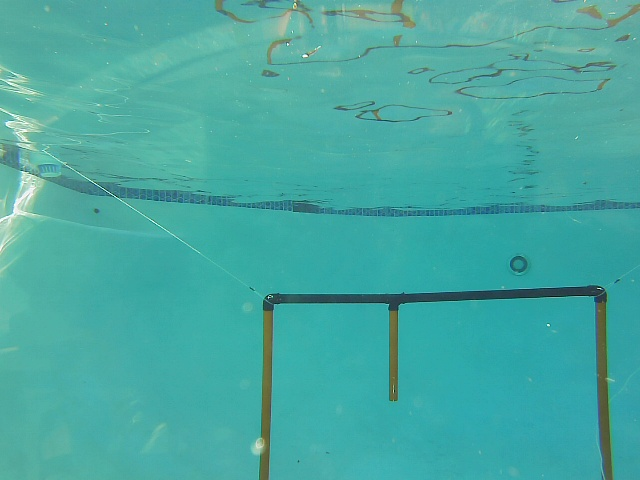Gate: (594, 297, 618, 480), (256, 306, 278, 480), (387, 305, 399, 403)
